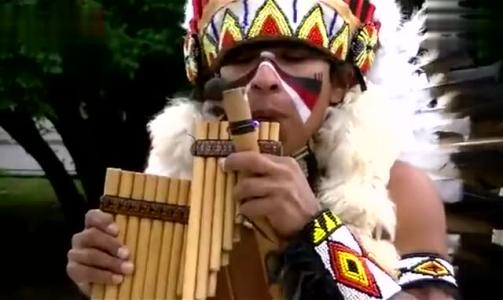no_mask: (174, 1, 377, 159)
